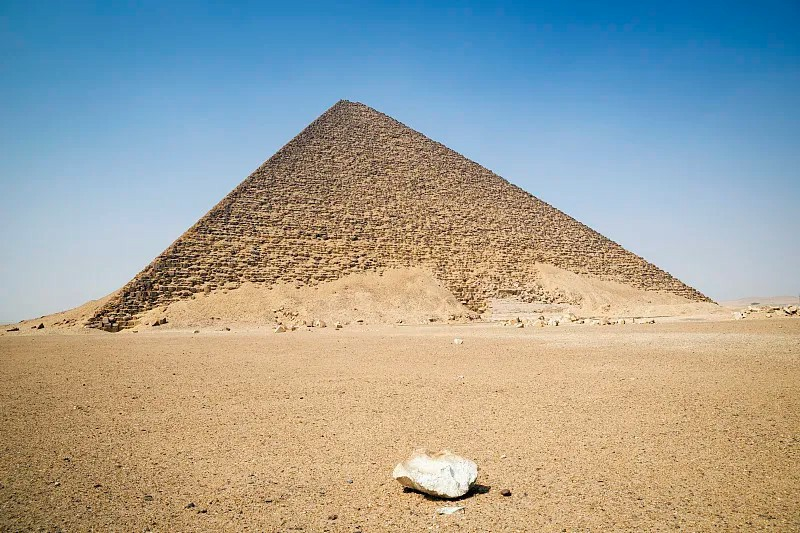Pyramid: (80, 100, 721, 329)
